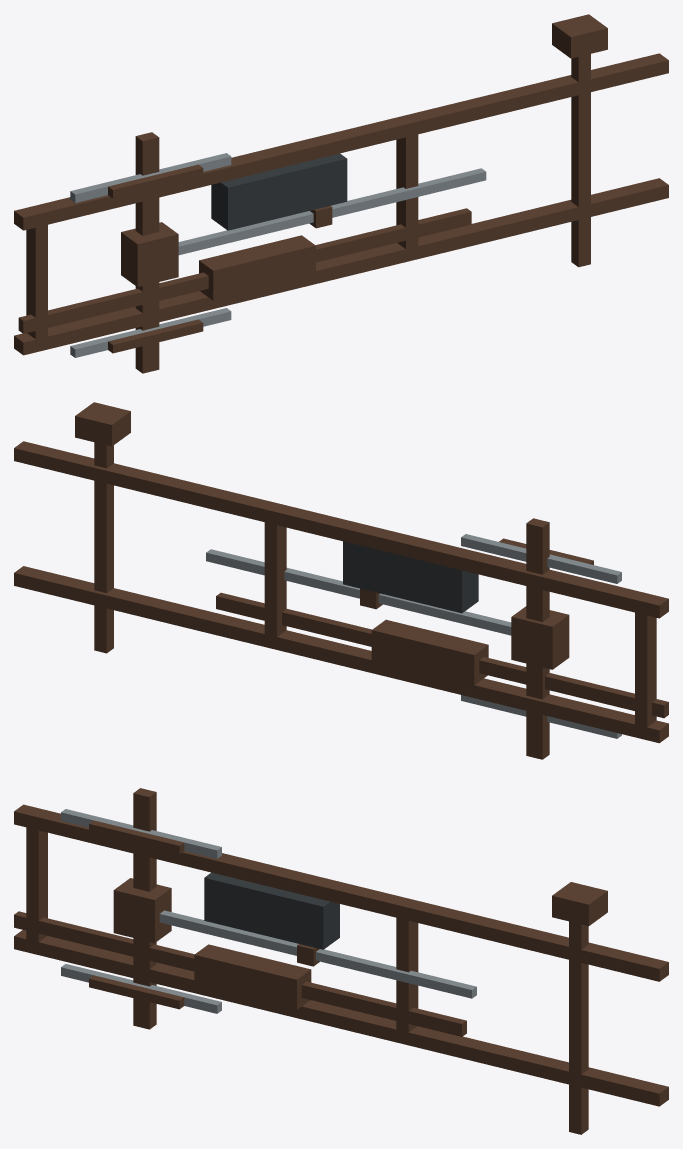
File: overturned_delivery_van_chassis.glb
3 renders of one model, top to bottom at view 1: azimuth 30°, elevation 25°; view 2: azimuth 150°, elevation 25°; view 3: azimuth 330°, elevation 25°, orthographic.
Visible parts, largest first — view 1: body:compound; view 2: body:compound; view 3: body:compound.
Boxes of the visible parts, box(x1,y1,x2,y2) form: body:compound: box(14, 14, 668, 373); body:compound: box(14, 402, 668, 759); body:compound: box(14, 788, 668, 1134).
Size of the model in its own units: 4.91 by 1.72 by 0.2812.
